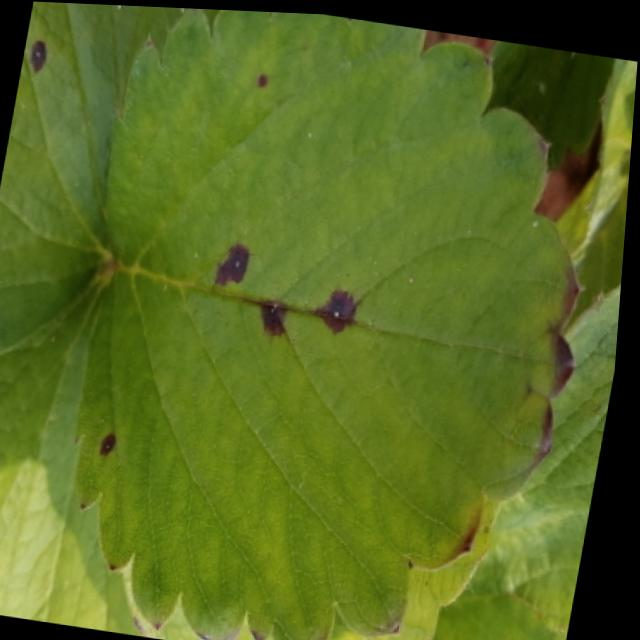Leaf Spot: (80, 6, 583, 640), (0, 1, 181, 357), (0, 261, 167, 637)
